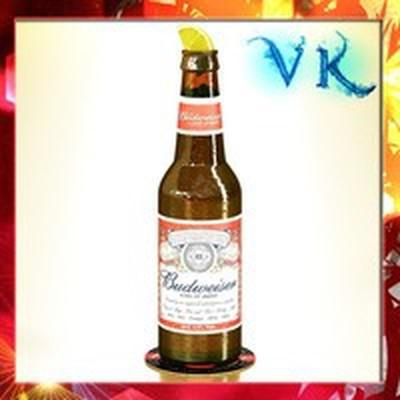beer: (157, 51, 247, 368)
